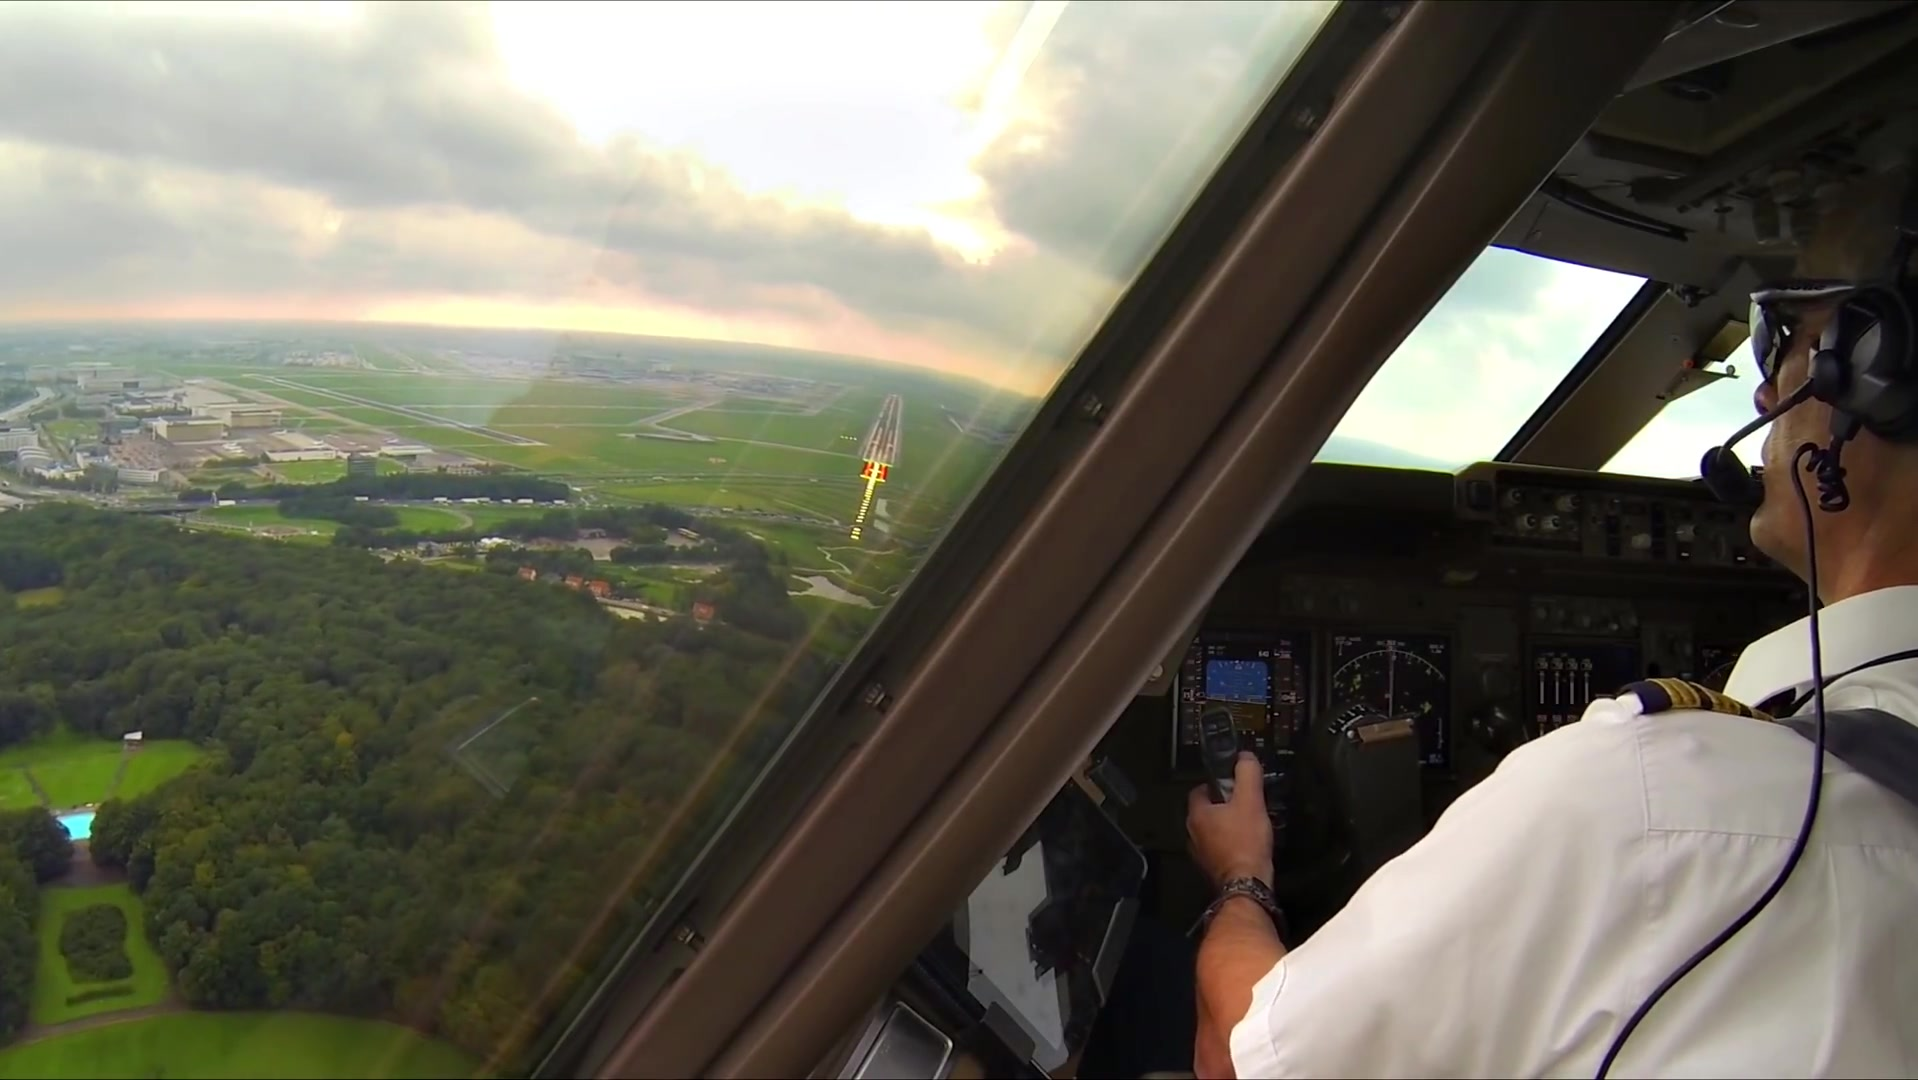runway: (854, 389, 912, 469)
